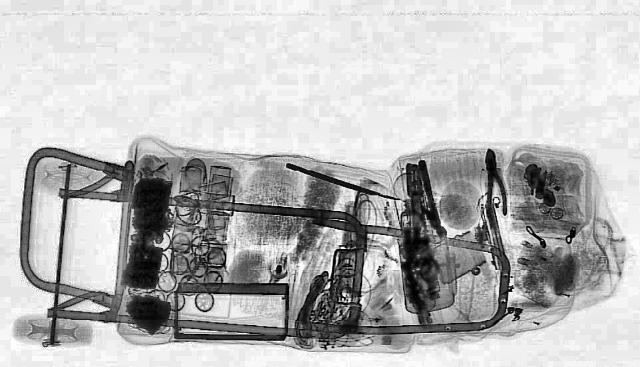Pliers: (479, 149, 511, 227)
